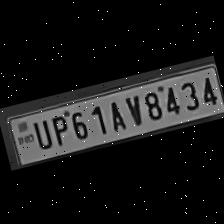1: (85, 100, 109, 136)
3: (174, 75, 200, 112)
4: (156, 80, 182, 116), (194, 70, 220, 106)
6: (64, 104, 92, 141)
8: (138, 84, 164, 121)
A: (100, 94, 128, 132)
P: (45, 109, 71, 146)
U: (28, 114, 54, 150)
V: (118, 89, 145, 127)
